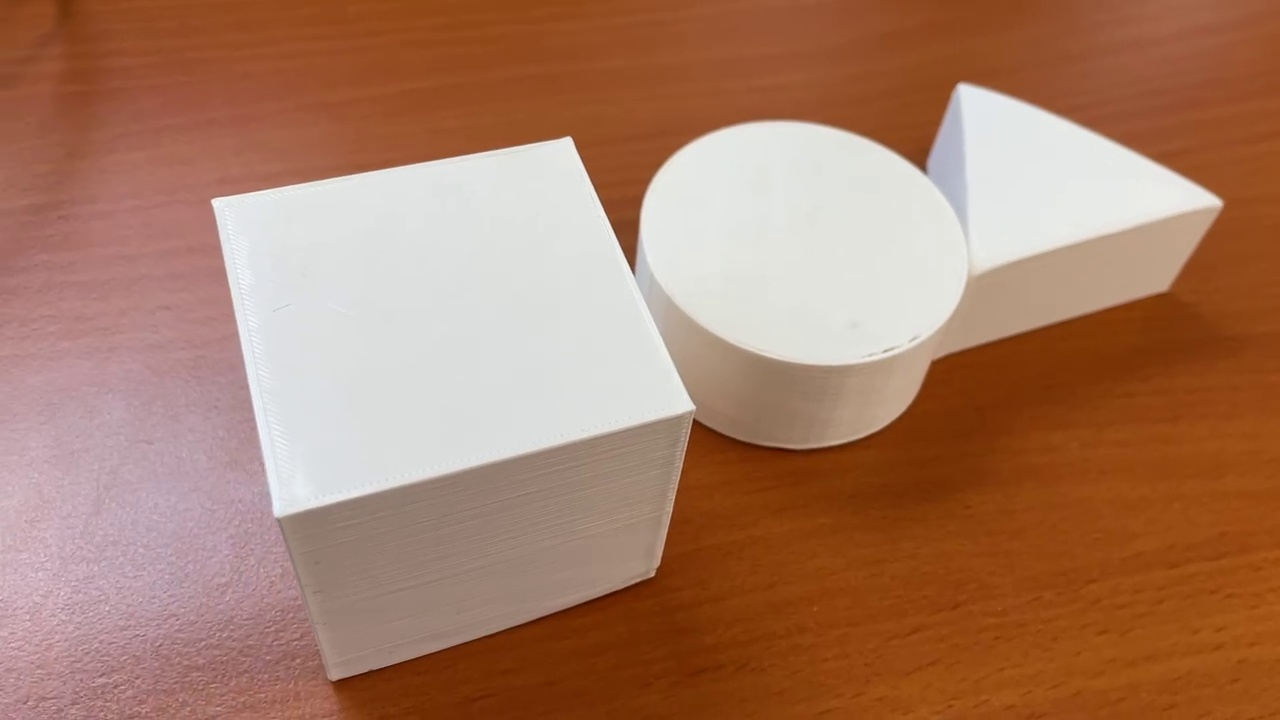Cube: (208, 135, 697, 682)
Cylinder_short: (629, 118, 966, 452)
Triangle_short: (921, 82, 1221, 345)
